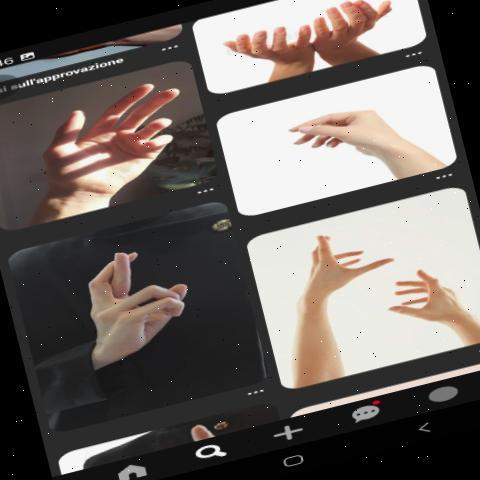Hands: (36, 69, 194, 207), (63, 243, 207, 376), (286, 95, 434, 182), (292, 224, 402, 335), (376, 256, 480, 354), (308, 0, 412, 59), (217, 23, 323, 74)
